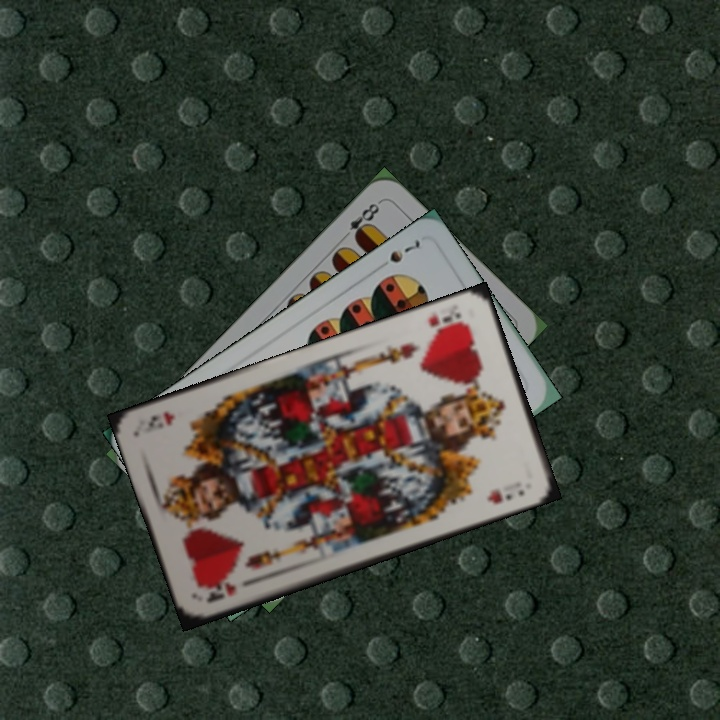E8: (337, 197, 383, 244)
HK: (424, 308, 471, 337), (201, 578, 239, 606)
S7: (372, 235, 423, 273)
